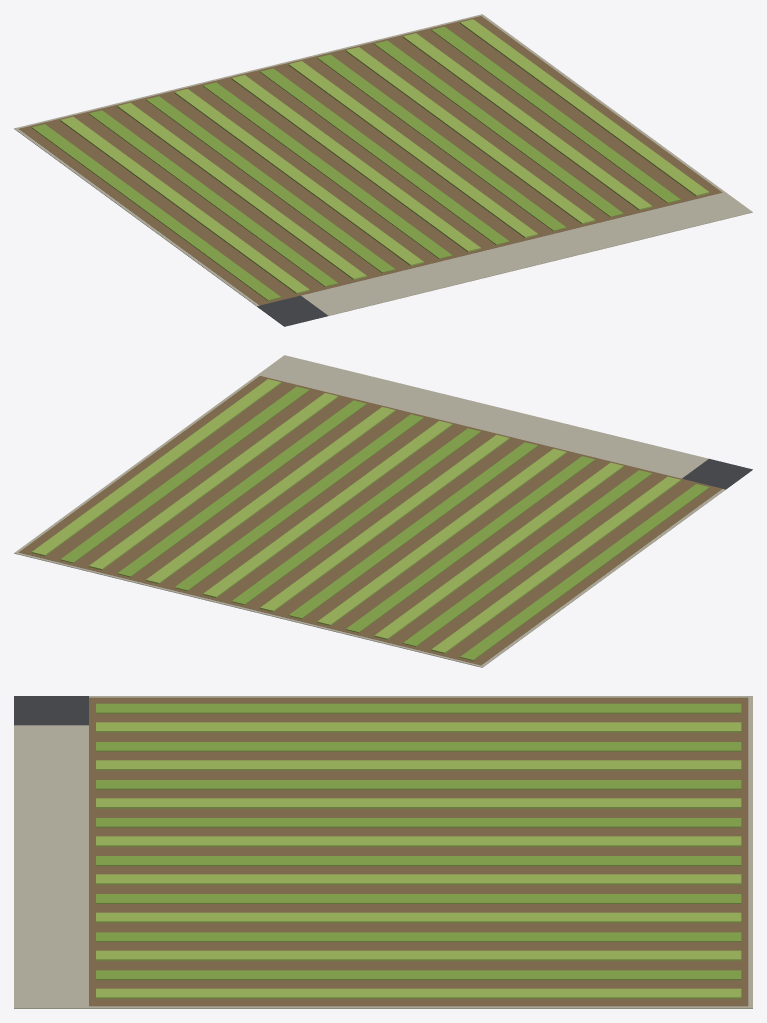
The model's file is site_field_young.glb.
The picture shows the model from 3 angles, top to bottom: view 1: azimuth 30°, elevation 25°; view 2: azimuth 150°, elevation 25°; view 3: azimuth 270°, elevation 25°; orthographic projection. The views are drawn at different scales.
Visible parts, largest first — view 1: site_field_young; view 2: site_field_young; view 3: site_field_young.
Part boxes in pixels (x1=…): site_field_young: x1=14, y1=14, x2=752, y2=326; site_field_young: x1=14, y1=355, x2=752, y2=667; site_field_young: x1=14, y1=696, x2=752, y2=1008.
Bounding box in the file's own units: 64 × 0.24 × 64.
